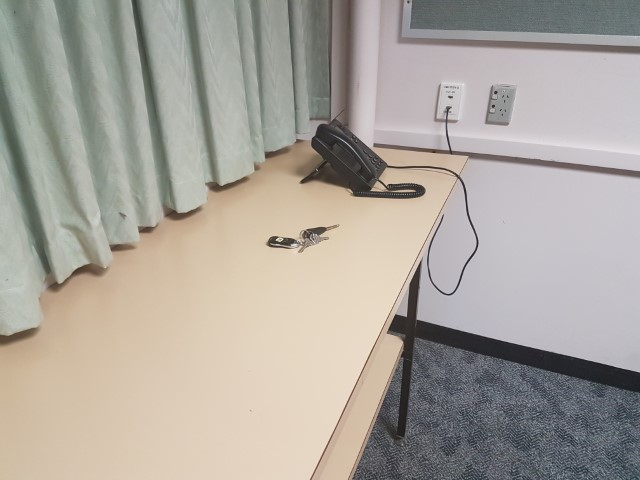key: (304, 224, 340, 241)
